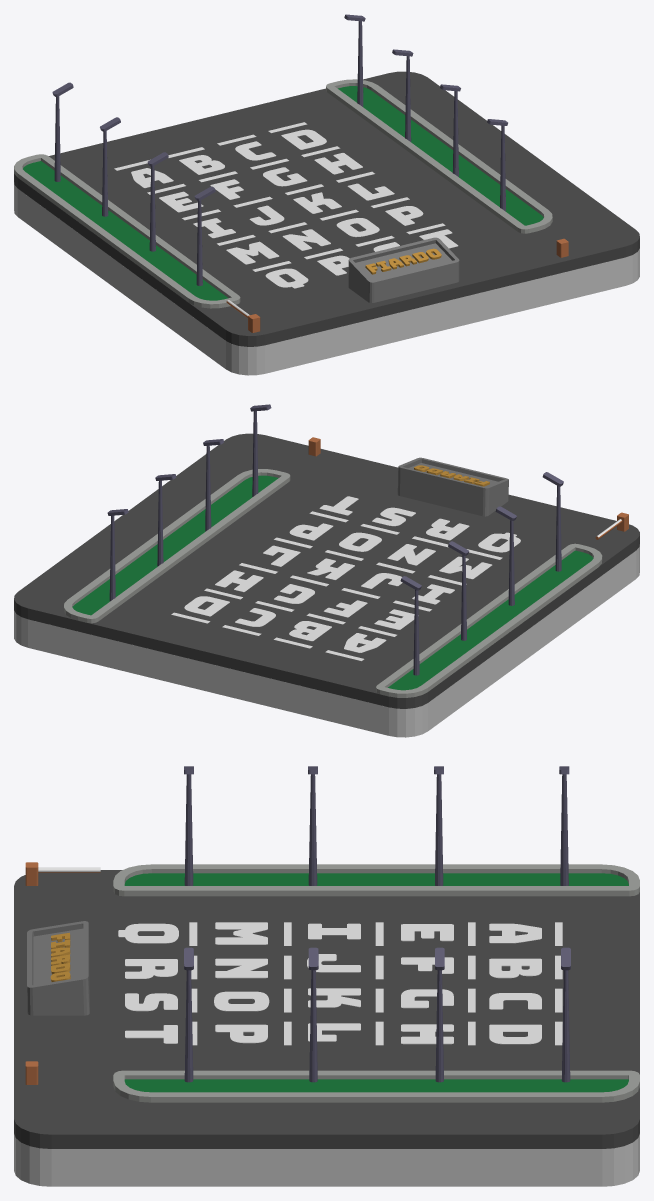
File: home_page_lighter_draco.glb
3 renders of one model, top to bottom at view 1: azimuth 30°, elevation 25°; view 2: azimuth 150°, elevation 25°; view 3: azimuth 270°, elevation 25°, orthographic. The views are drawn at different scales.
Visible parts, largest first — view 1: asphalt, base, refuge-islands, lamps, buliding, bumps, mnop, abcd, efgh, ijkl, qrst, company-logo (+1 smaller); view 2: asphalt, base, refuge-islands, lamps, buliding, bumps, mnop, abcd, qrst, efgh, ijkl, automatics (+1 smaller); view 3: asphalt, refuge-islands, base, lamps, buliding, bumps, mnop, abcd, qrst, efgh, ijkl, automatics (+1 smaller).
Boxes of the visible parts, left/top/right/bottom form: asphalt: left=14, top=71, right=639, bottom=346; base: left=14, top=182, right=639, bottom=375; refuge-islands: left=14, top=79, right=552, bottom=308; lamps: left=52, top=14, right=507, bottom=285; buliding: left=348, top=237, right=459, bottom=302; bumps: left=114, top=122, right=445, bottom=271; mnop: left=226, top=206, right=423, bottom=264; abcd: left=131, top=129, right=326, bottom=188; efgh: left=159, top=153, right=362, bottom=212; ijkl: left=193, top=183, right=394, bottom=238; qrst: left=265, top=229, right=458, bottom=288; company-logo: left=365, top=248, right=441, bottom=274; asphalt: left=14, top=433, right=639, bottom=708; base: left=14, top=544, right=639, bottom=737; refuge-islands: left=64, top=469, right=602, bottom=697; lamps: left=107, top=404, right=563, bottom=675; buliding: left=397, top=457, right=508, bottom=516; bumps: left=171, top=511, right=502, bottom=661; mnop: left=289, top=523, right=492, bottom=579; abcd: left=184, top=596, right=386, bottom=652; qrst: left=319, top=496, right=520, bottom=552; efgh: left=215, top=570, right=418, bottom=629; ijkl: left=263, top=545, right=454, bottom=604; automatics: left=308, top=437, right=628, bottom=539; asphalt: left=14, top=870, right=639, bottom=1148; refuge-islands: left=113, top=864, right=639, bottom=1102; base: left=14, top=1134, right=639, bottom=1186; lamps: left=184, top=766, right=570, bottom=1082; buliding: left=27, top=921, right=89, bottom=1015; bumps: left=189, top=922, right=562, bottom=1045; mnop: left=214, top=922, right=269, bottom=1043; abcd: left=489, top=923, right=541, bottom=1044; qrst: left=118, top=923, right=178, bottom=1043; efgh: left=401, top=924, right=453, bottom=1044; ijkl: left=307, top=923, right=360, bottom=1041; automatics: left=25, top=862, right=100, bottom=1084.
Size of the model in its own units: 10 by 3.13 by 10.
